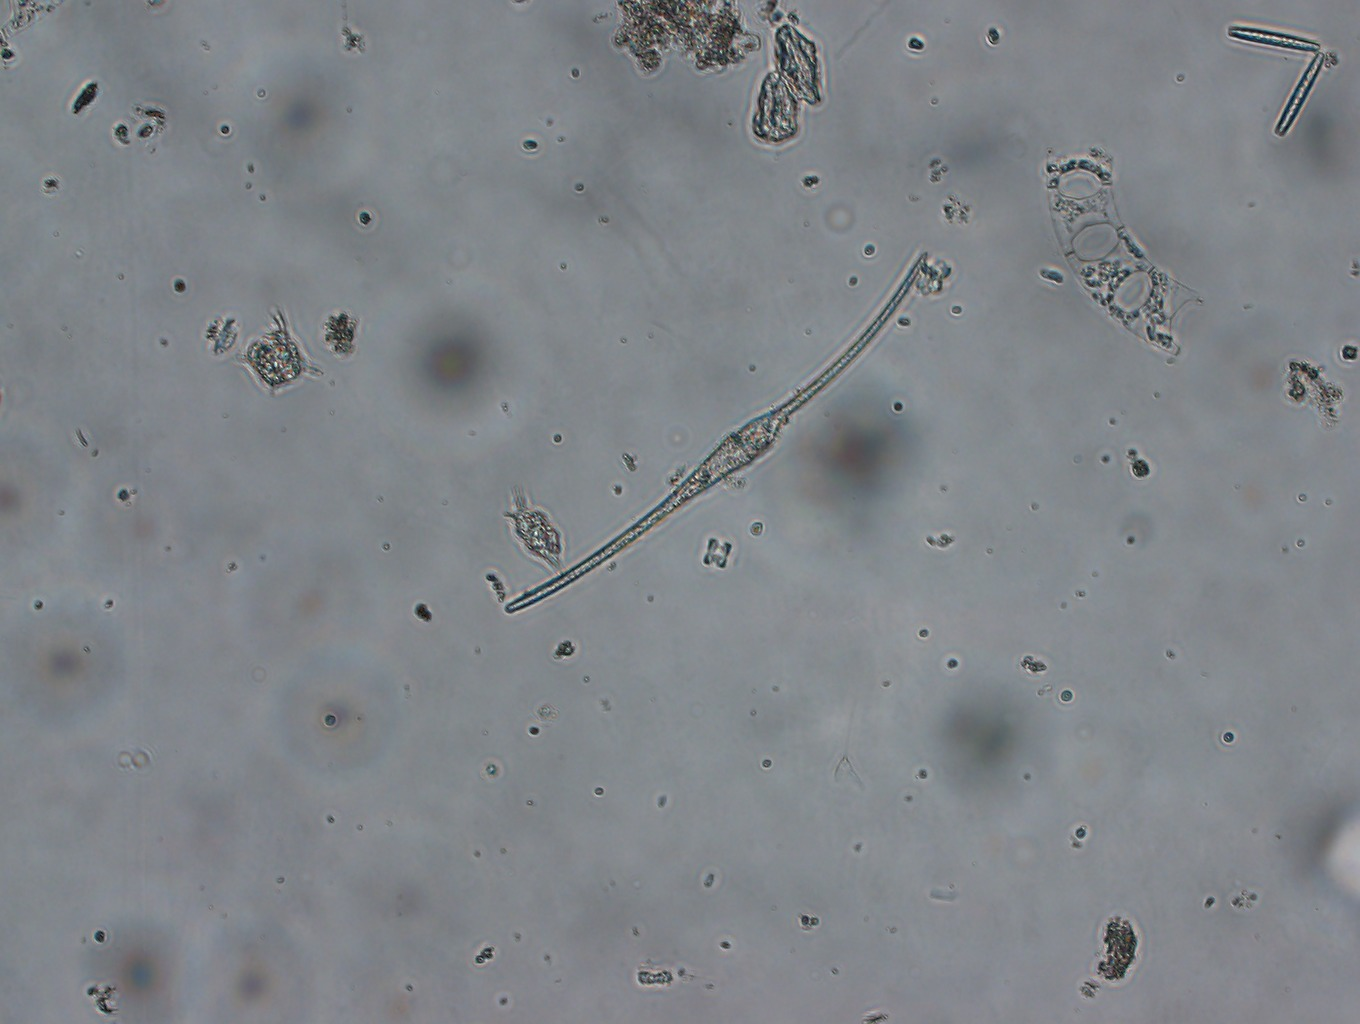ceratium fusus: (489, 245, 931, 618)
eucampia: (1034, 136, 1209, 368)
thalassionema nitzschioides: (1215, 12, 1328, 144)
